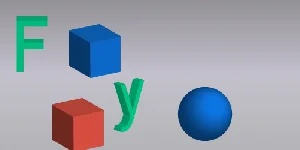大写字母: (14, 14, 50, 73)
小写字母: (111, 77, 144, 132)
正方体: (66, 23, 122, 79), (48, 95, 105, 150)
球体: (177, 86, 233, 142)
